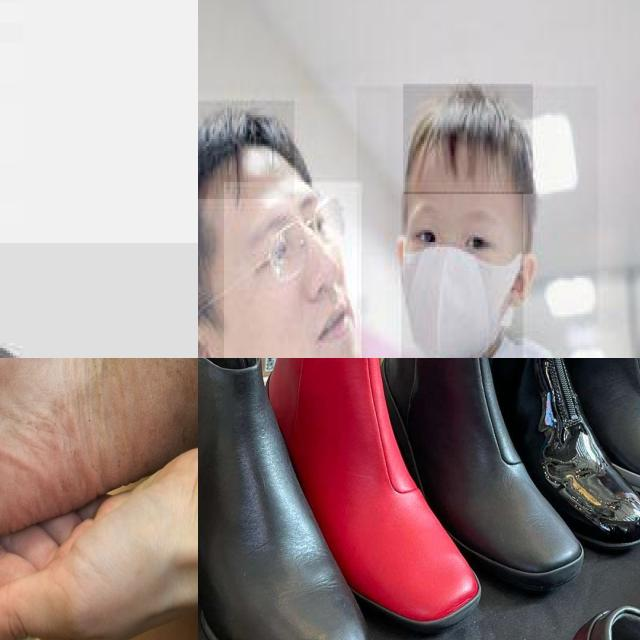Barefoots: (0, 358, 198, 559)
No_Ear-Protection: (198, 322, 239, 358)
No_Glasses: (405, 200, 515, 266)
Sandals: (249, 358, 503, 638), (360, 358, 616, 607), (198, 358, 413, 640)
face_mask: (401, 191, 523, 358)
face_nomask: (224, 182, 361, 358)
glasses: (256, 190, 349, 289)
head_nohelmet: (404, 84, 534, 196), (198, 100, 296, 201)
person: (357, 86, 600, 358), (198, 93, 387, 358)
